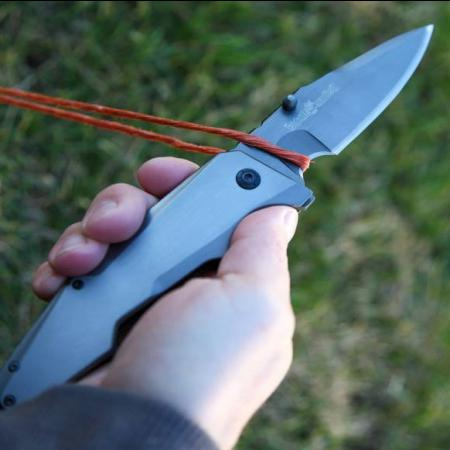long weapon: (236, 16, 440, 246)
